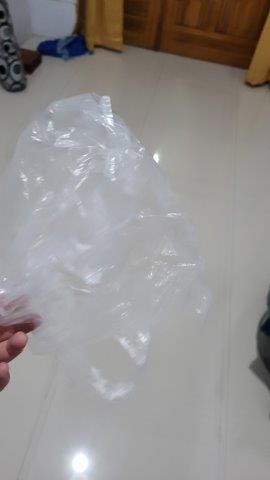plastik: (8, 94, 213, 406)
